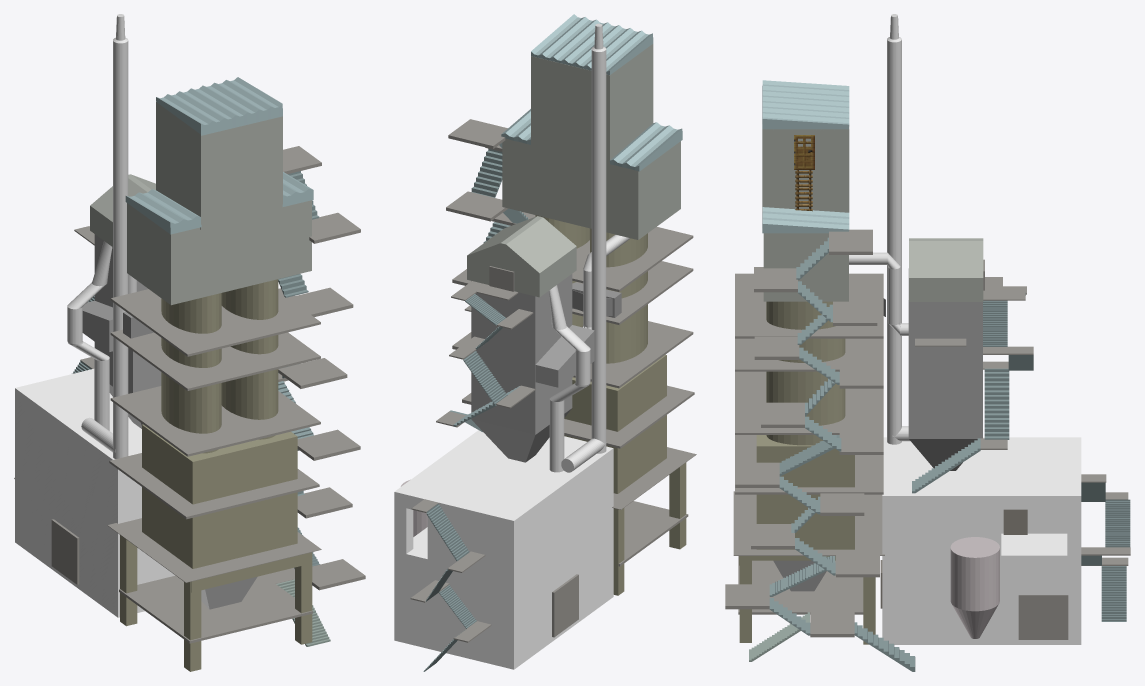
File: zvd.glb
3 views of the same model, side by side, from view 1: azimuth 30°, elevation 25°; view 2: azimuth 150°, elevation 25°; view 3: azimuth 270°, elevation 25° (orthographic). The views are drawn at different scales.
Parts seen in each view (by area): view 1: Куб.008, Cube.006, Cube.019, Cube.020, Cylinder.007, Cube.008, Cylinder.001, Cube.014, Cube.018, Cylinder, Cube.017, Cube.003 (+22 smaller); view 2: Куб.008, Cube.019, Cube.049, Cube.020, Cylinder.007, Куб.006, Cube.006, Cube.003, Cylinder.001, Cylinder.005, Cube.018, Cube.014 (+20 smaller); view 3: Куб.008, Cube.049, Cube.006, Cylinder, Cylinder.007, Cube.020, Куб.006, Цилиндр, Cube.014, Cube.018, Cube.003, Cube.019 (+33 smaller).
Boxes of the visible parts, bbox=[...] form: Куб.008: bbox=[15, 369, 175, 617]; Cube.006: bbox=[142, 424, 297, 568]; Cube.019: bbox=[127, 200, 311, 305]; Cube.020: bbox=[156, 102, 282, 229]; Cylinder.007: bbox=[113, 14, 128, 458]; Cube.008: bbox=[119, 575, 312, 643]; Cylinder.001: bbox=[161, 293, 221, 453]; Cube.014: bbox=[110, 386, 320, 456]; Cube.018: bbox=[110, 289, 320, 356]; Cylinder: bbox=[221, 279, 278, 439]; Cube.017: bbox=[110, 329, 320, 390]; Cube.003: bbox=[156, 77, 282, 135]; Куб.008: bbox=[394, 430, 613, 669]; Cube.019: bbox=[502, 138, 680, 239]; Cube.049: bbox=[471, 274, 572, 462]; Cube.020: bbox=[531, 44, 653, 167]; Cylinder.007: bbox=[591, 23, 606, 453]; Куб.006: bbox=[467, 216, 576, 297]; Cube.006: bbox=[564, 354, 666, 493]; Cube.003: bbox=[531, 14, 653, 74]; Cylinder.001: bbox=[590, 228, 647, 363]; Cylinder.005: bbox=[549, 285, 590, 472]; Cube.018: bbox=[572, 227, 693, 291]; Cube.014: bbox=[573, 321, 693, 388]; Куб.008: bbox=[882, 437, 1081, 644]; Cube.049: bbox=[908, 268, 982, 470]; Cube.006: bbox=[756, 435, 854, 549]; Cylinder: bbox=[766, 301, 845, 445]; Cylinder.007: bbox=[887, 14, 901, 444]; Cube.020: bbox=[762, 127, 849, 212]; Куб.006: bbox=[909, 238, 984, 301]; Цилиндр: bbox=[950, 537, 999, 638]; Cube.014: bbox=[735, 371, 883, 434]; Cube.018: bbox=[735, 273, 883, 338]; Cube.003: bbox=[762, 80, 849, 129]; Cube.019: bbox=[763, 233, 848, 301].
Size of what is drawn, in the model's own units: 17.03 by 51.98 by 32.73.
82 materials, 4 textured.
